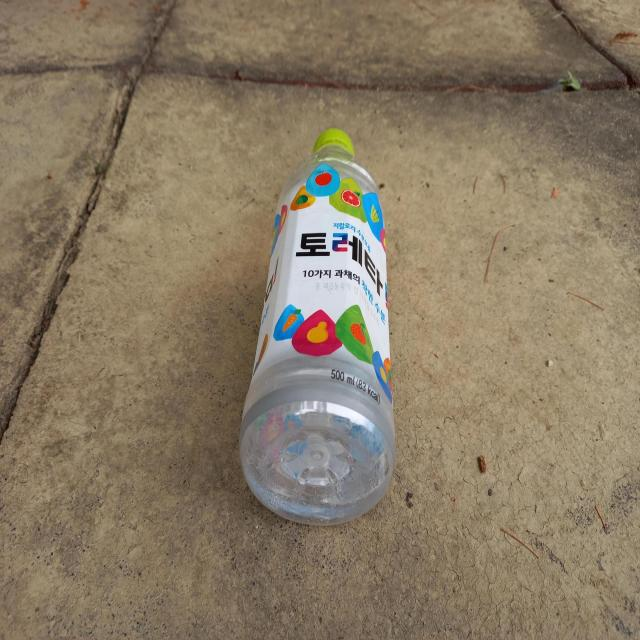plastic: (239, 128, 396, 525)
